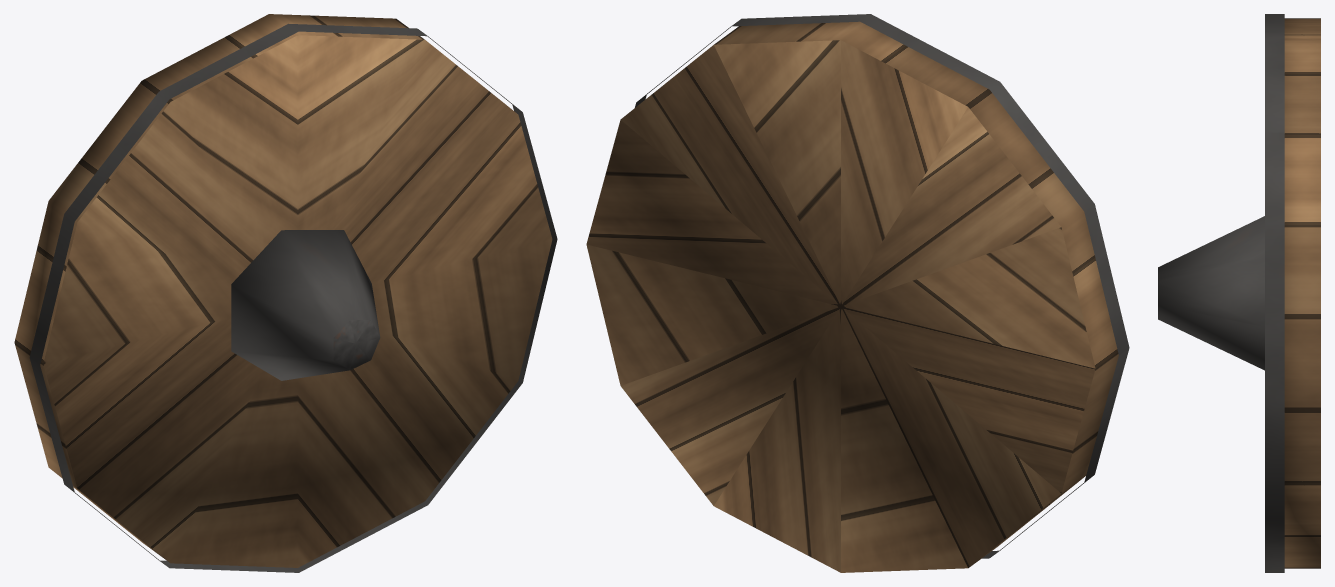
Rendered from Shield_Wooden_LOD1.gltf.
3 views of the same model, side by side, from view 1: azimuth 30°, elevation 25°; view 2: azimuth 150°, elevation 25°; view 3: azimuth 270°, elevation 25° (orthographic). The views are drawn at different scales.
Parts seen in each view (by area): view 1: Shield_Wooden_LOD1; view 2: Shield_Wooden_LOD1; view 3: Shield_Wooden_LOD1.
Boxes of the visible parts, box(x1,y1,x2,y2) form: Shield_Wooden_LOD1: box(14, 14, 557, 572); Shield_Wooden_LOD1: box(586, 14, 1129, 572); Shield_Wooden_LOD1: box(1158, 14, 1320, 572).
Size of the model in its own units: 0.62 by 0.62 by 0.18.
2 materials, 2 textured.
